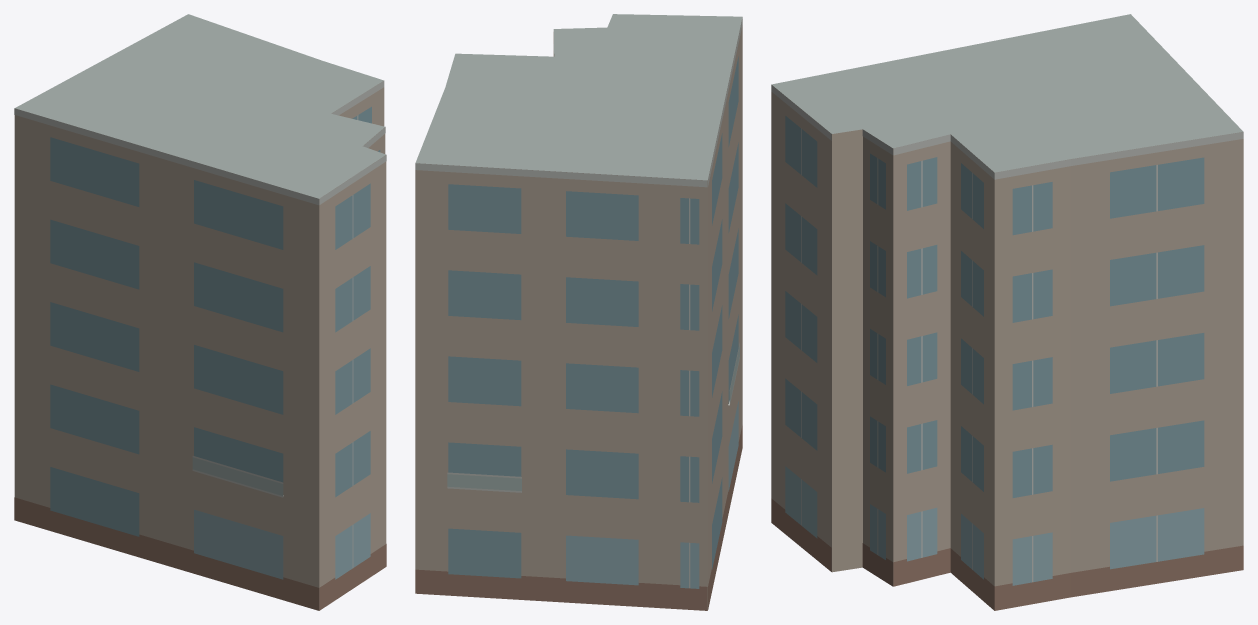
File: survey-upis-32492051.glb
3 views of the same model, side by side, from view 1: azimuth 30°, elevation 25°; view 2: azimuth 150°, elevation 25°; view 3: azimuth 270°, elevation 25° (orthographic). The views are drawn at different scales.
Parts seen in each view (by area): view 1: survey-upis-32492051.tmp; view 2: survey-upis-32492051.tmp; view 3: survey-upis-32492051.tmp.
Boxes of the visible parts, box(x1,y1,x2,y2) form: survey-upis-32492051.tmp: box(14, 14, 386, 610); survey-upis-32492051.tmp: box(415, 14, 742, 610); survey-upis-32492051.tmp: box(771, 14, 1243, 610).
Bounding box in the file's own units: 11.81 × 15.2 × 14.86.
